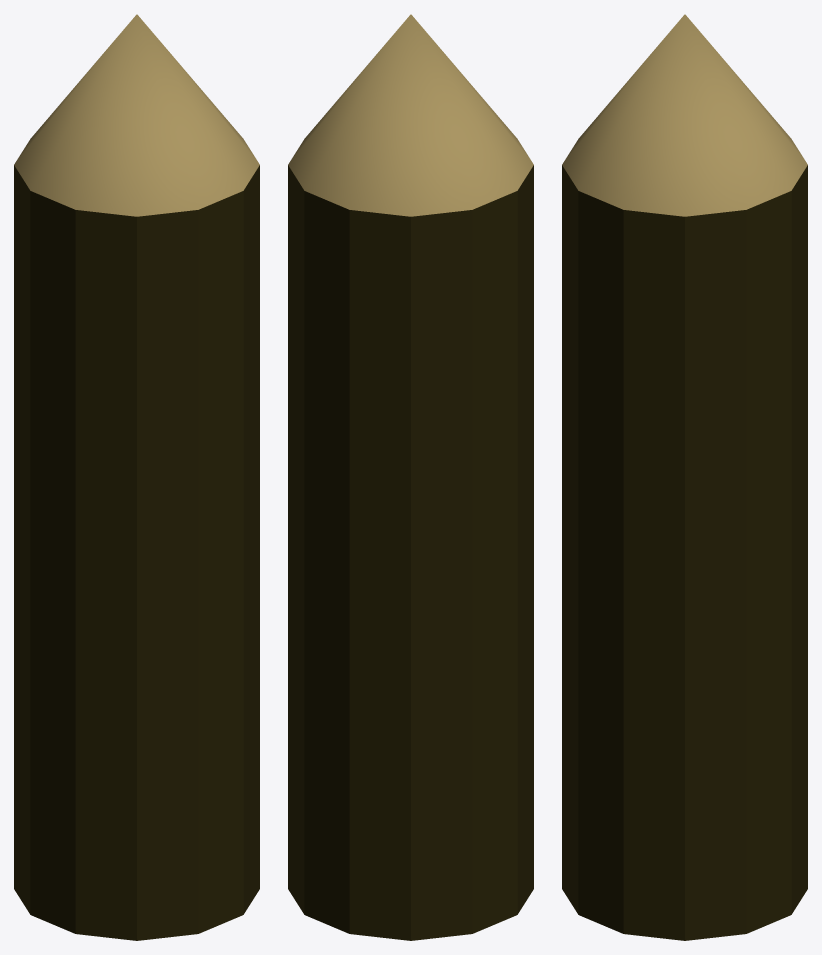
File: prop_log_post_1.glb
3 renders of one model, left to right at view 1: azimuth 30°, elevation 25°; view 2: azimuth 150°, elevation 25°; view 3: azimuth 270°, elevation 25°, orthographic.
Visible parts, largest first — view 1: prop_log_post_1; view 2: prop_log_post_1; view 3: prop_log_post_1.
Boxes of the visible parts, x1,y1,x2,y2 form: prop_log_post_1: (14,14,259,940); prop_log_post_1: (288,14,533,940); prop_log_post_1: (562,14,807,940).
Bounding box in the file's own units: 0.6601 × 2.59 × 0.6601.
